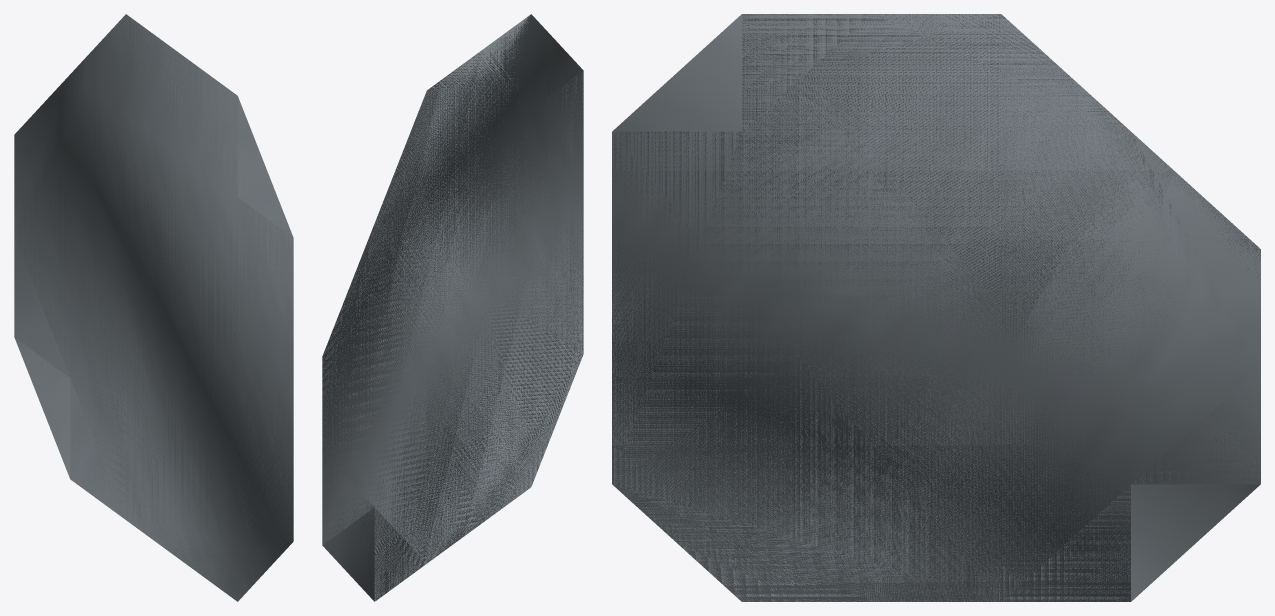
The picture shows the model from 3 angles, left to right: view 1: azimuth 30°, elevation 25°; view 2: azimuth 150°, elevation 25°; view 3: azimuth 270°, elevation 25°; orthographic projection. The views are drawn at different scales.
Bounding box in the file's own units: 0 × 0.4 × 0.4.
1 material, 1 textured.
